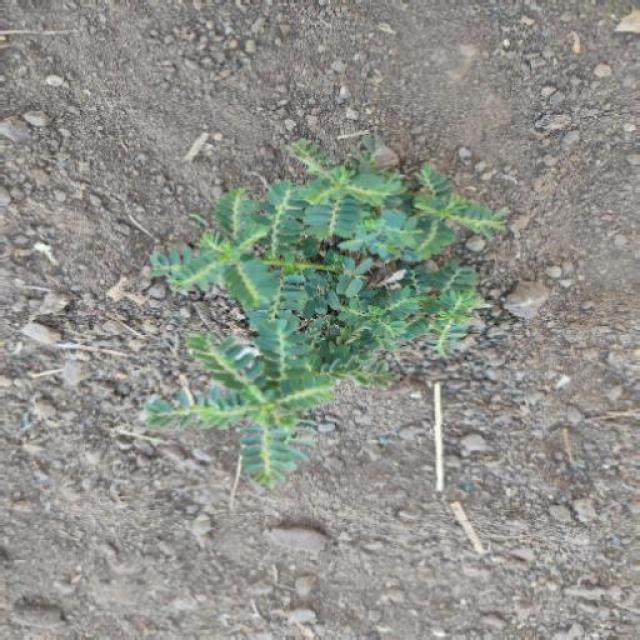weed: (145, 158, 507, 468)
